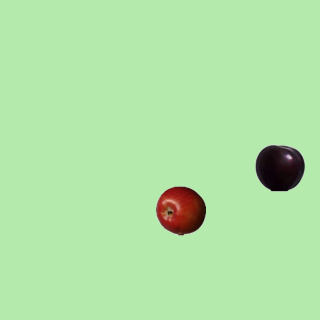Apple Braeburn: (155, 185, 205, 235)
Cherry Wax Black: (254, 142, 304, 192)
